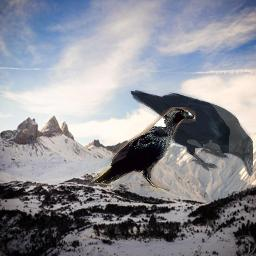Crow: (129, 90, 253, 176), (91, 107, 196, 191)
